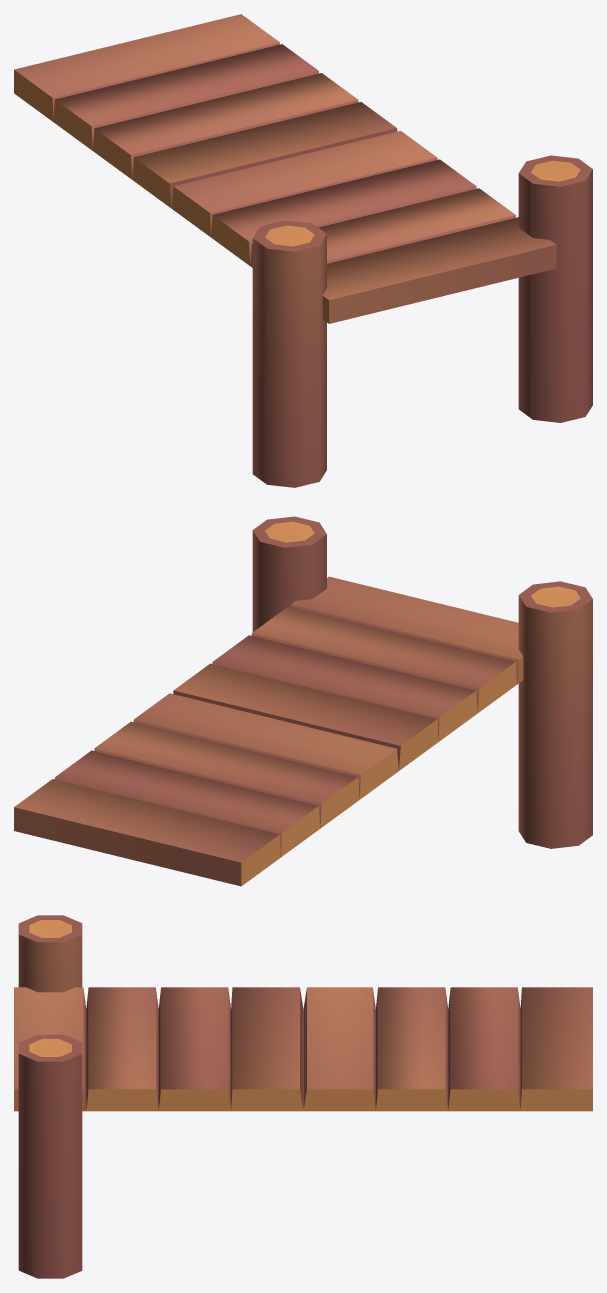
The model's file is SM_Port.fbx.
3 renders of one model, top to bottom at view 1: azimuth 30°, elevation 25°; view 2: azimuth 150°, elevation 25°; view 3: azimuth 270°, elevation 25°, orthographic. The views are drawn at different scales.
Visible parts, largest first — view 1: SM_Port; view 2: SM_Port; view 3: SM_Port.
Part boxes in pixels (<box>): SM_Port: <box>14,14,592,487</box>; SM_Port: <box>14,516,592,886</box>; SM_Port: <box>14,915,592,1278</box>.
Bounding box in the file's own units: 6.42 × 4.45 × 10.75.
